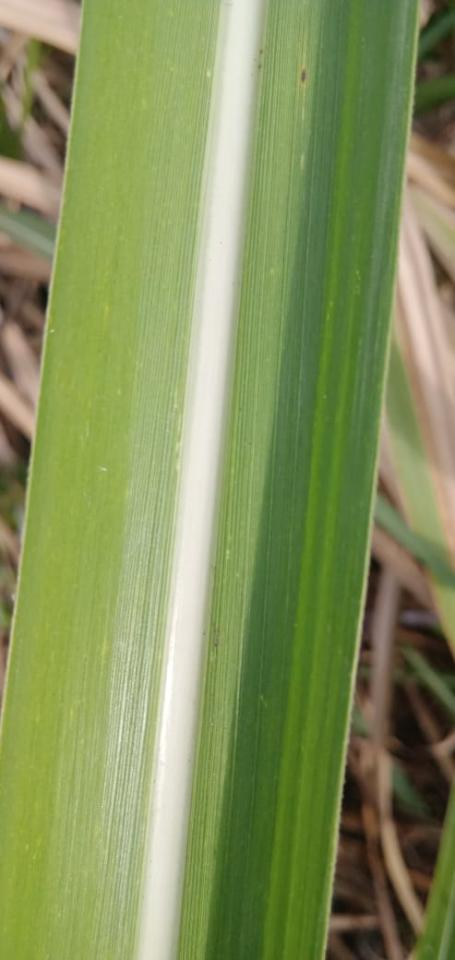Healthy: (0, 0, 415, 959)
